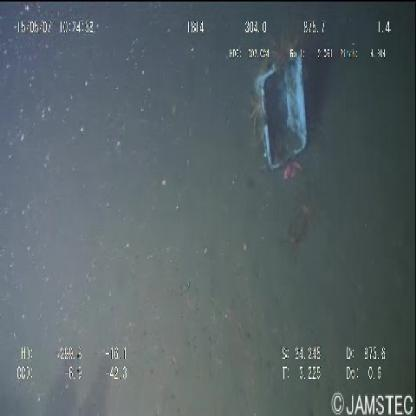Rác: (256, 59, 309, 173)
